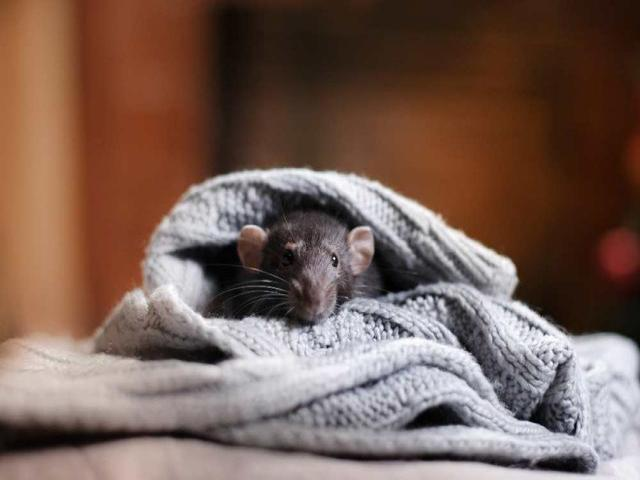Tikus: (235, 210, 382, 327)
